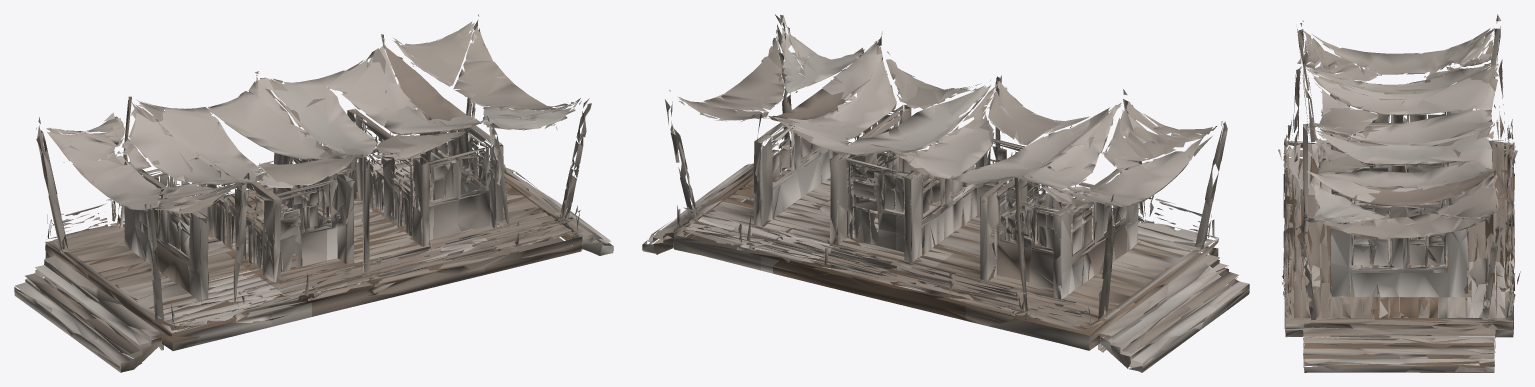
The model's file is artpav.glb.
The picture shows the model from 3 angles, left to right: view 1: azimuth 30°, elevation 25°; view 2: azimuth 150°, elevation 25°; view 3: azimuth 270°, elevation 25°; orthographic projection. The views are drawn at different scales.
Parts seen in each view (by area): view 1: LO.001; view 2: LO.001; view 3: LO.001.
Part boxes in pixels (box(x1,y1,x2,y2)): LO.001: box(14, 14, 613, 372); LO.001: box(642, 14, 1249, 372); LO.001: box(1278, 14, 1520, 372).
Bounding box in the file's own units: 1.9 × 0.6323 × 0.8999.
1 material, 1 textured.
